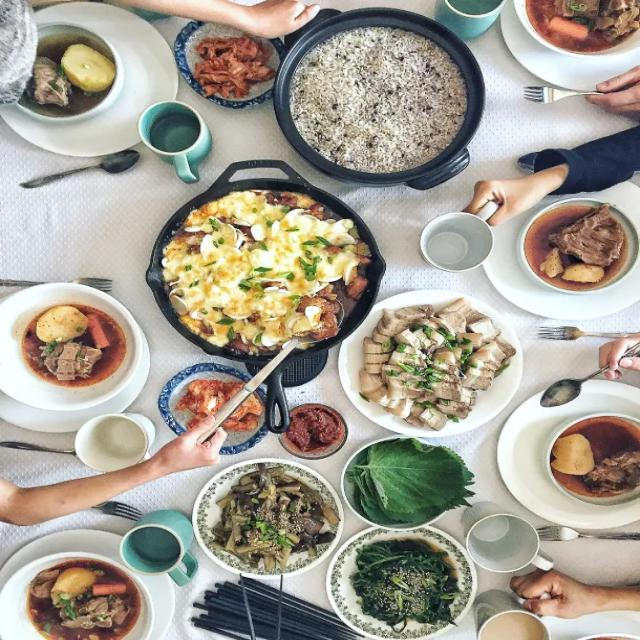ba chi Luoc: (338, 291, 516, 434)
bo duc lo: (145, 182, 383, 354)
com chien: (274, 10, 482, 184)
kimchi: (173, 358, 278, 457), (180, 25, 276, 99)
